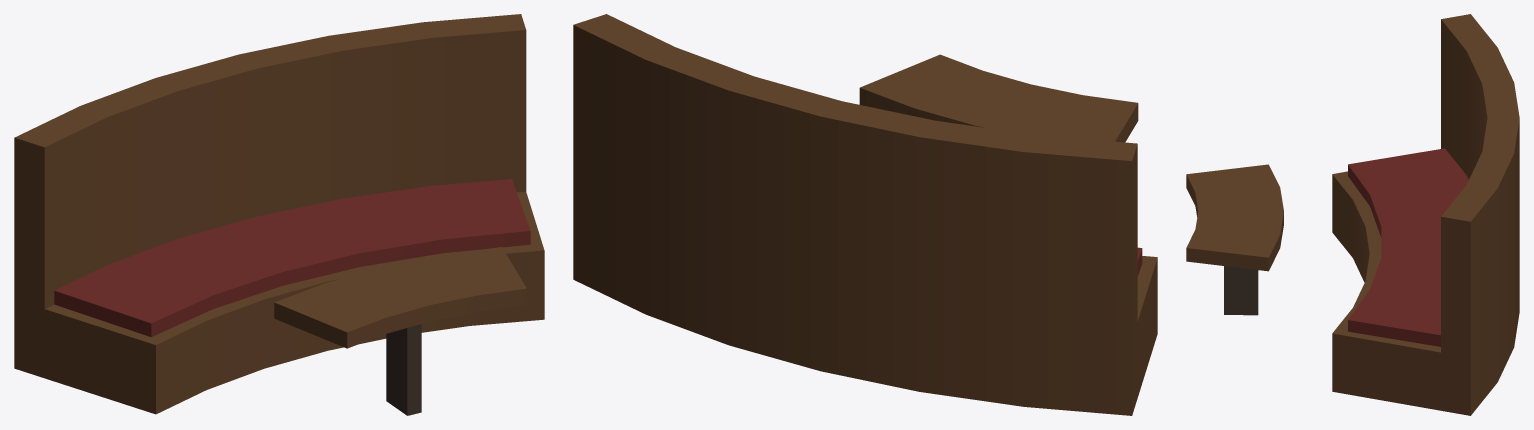
The model's file is curve_booth.glb.
3 renders of one model, left to right at view 1: azimuth 30°, elevation 25°; view 2: azimuth 150°, elevation 25°; view 3: azimuth 270°, elevation 25°, orthographic. The views are drawn at different scales.
Visible parts, largest first — view 1: sw5e_int_curve_booth; view 2: sw5e_int_curve_booth; view 3: sw5e_int_curve_booth.
Boxes of the visible parts, left/top/right/bottom form: sw5e_int_curve_booth: left=14, top=14, right=544, bottom=415; sw5e_int_curve_booth: left=573, top=14, right=1157, bottom=415; sw5e_int_curve_booth: left=1186, top=14, right=1519, bottom=415.
Size of the model in its own units: 2.3 by 1 by 1.56.
